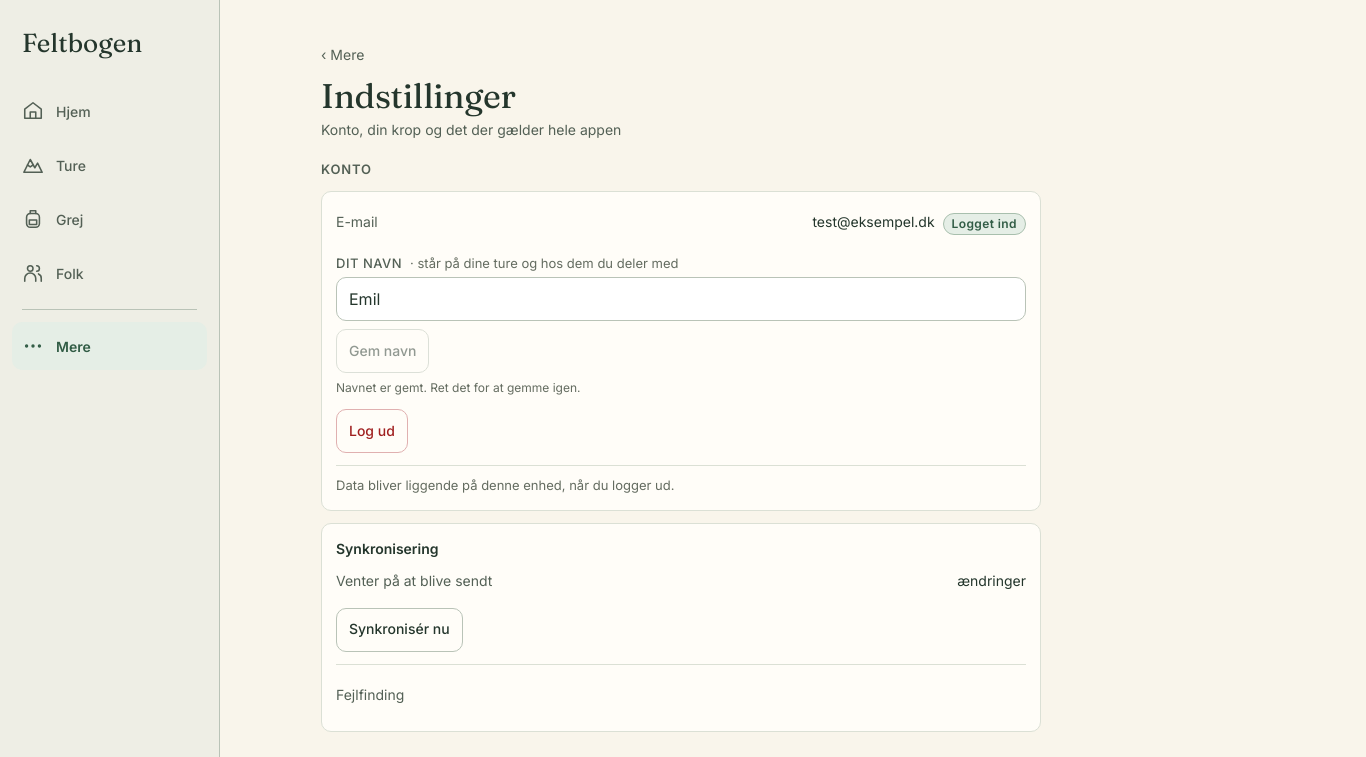
Test: kun én fyldt accent › er "Gem navn", så snart navnet er rettet
The width and height of the screenshot is (1366, 757).
Type "a" into the field labelled "Dit navn· står på dine ture og hos dem du deler med" at x=681, y=299, box [336,277,1026,321]
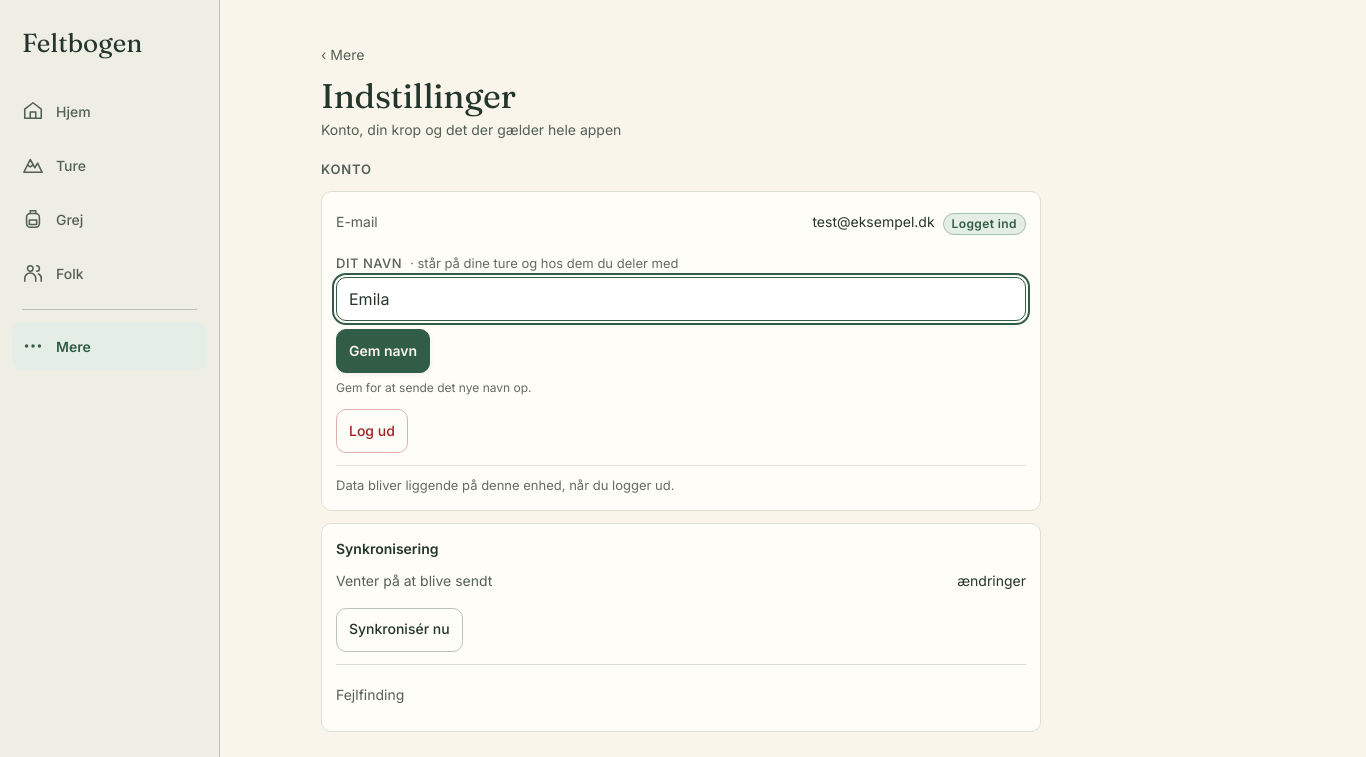
Expected: the button "Gem navn" is shown, [336,329,430,373]
Expected: the button "Gem navn" is enabled, [336,329,430,373]
